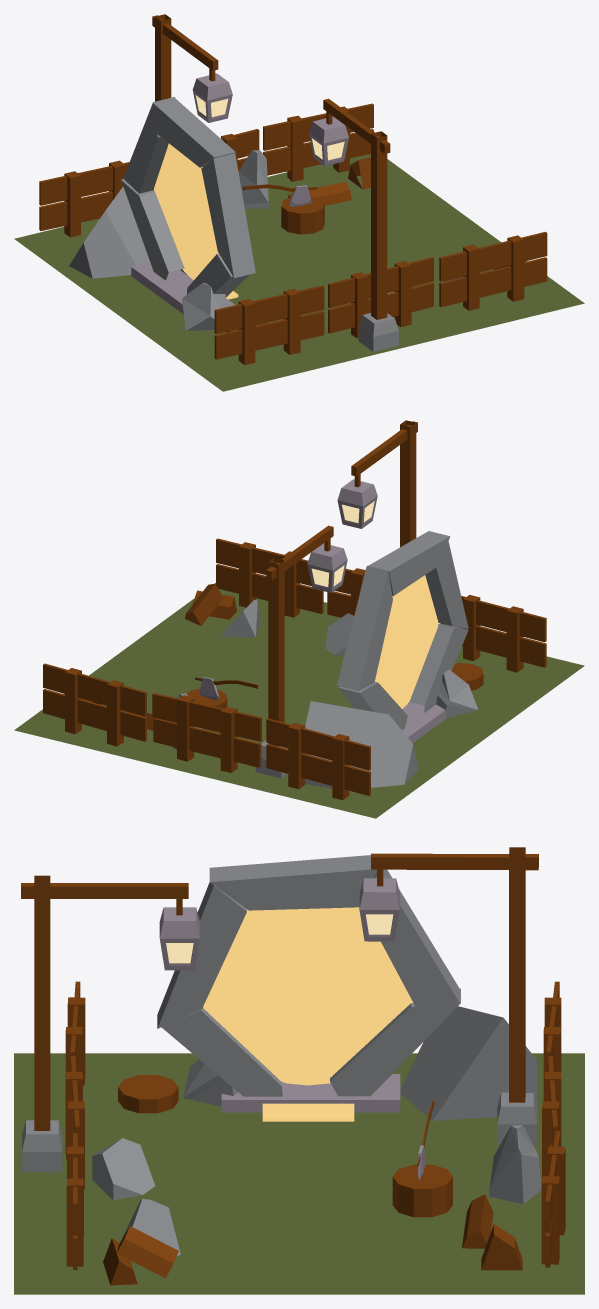
File: portal.glb
3 renders of one model, top to bottom at view 1: azimuth 30°, elevation 25°; view 2: azimuth 150°, elevation 25°; view 3: azimuth 270°, elevation 25°, orthographic. The views are drawn at different scales.
Visible parts, largest first — view 1: floor, Cube.010, Cube.006, Cube.003, up pole, Cube.007, Cube.008, plabk2.007, plank1.009, plabk2.009, plank1.011, Cube.005 (+28 smaller); view 2: floor, Cube.010, Cube.003, Cube.005, up pole.001, Cube.007, Cube.004, plabk2.002, plank1.006, plabk2.001, plank1.001, Cube.006 (+28 smaller); view 3: floor, Cube.010, Cube.003, Cube.007, Cube.006, Cube.008, Cube.004, Cube.002, up pole.001, up pole, Cube.005, Cube.009 (+24 smaller).
Boxes of the visible parts, box(x1,y1,x2,y2) form: floor: box(14, 154, 584, 391); Cube.010: box(154, 143, 238, 299); Cube.006: box(201, 153, 255, 278); Cube.003: box(69, 186, 149, 278); up pole: box(371, 131, 387, 319); Cube.007: box(153, 97, 235, 167); Cube.008: box(121, 179, 186, 280); plabk2.007: box(214, 285, 324, 333); plank1.009: box(214, 311, 324, 359); plabk2.009: box(439, 231, 547, 281); plank1.011: box(439, 257, 547, 307); Cube.005: box(123, 97, 174, 193); floor: box(14, 583, 584, 818); Cube.010: box(375, 575, 438, 708); Cube.003: box(305, 701, 418, 788); Cube.005: box(337, 566, 392, 690); up pole.001: box(268, 558, 284, 746); Cube.007: box(368, 531, 450, 595); Cube.004: box(408, 623, 468, 712); plabk2.002: box(152, 693, 261, 741); plank1.006: box(153, 718, 261, 767); plabk2.001: box(266, 718, 370, 770); plank1.001: box(266, 744, 370, 795); Cube.006: box(425, 541, 468, 628); floor: box(14, 1053, 584, 1294); Cube.010: box(203, 907, 413, 1121); Cube.003: box(400, 1006, 537, 1120); Cube.007: box(209, 855, 376, 910); Cube.006: box(157, 882, 246, 1028); Cube.008: box(330, 988, 460, 1096); Cube.004: box(161, 1007, 282, 1096); Cube.002: box(92, 1138, 180, 1255); up pole.001: box(509, 847, 525, 1102); up pole: box(34, 875, 50, 1130); Cube.005: box(374, 869, 459, 1007); Cube.009: box(221, 1074, 400, 1112).
Size of the model in its own units: 4 by 2.38 by 4.
